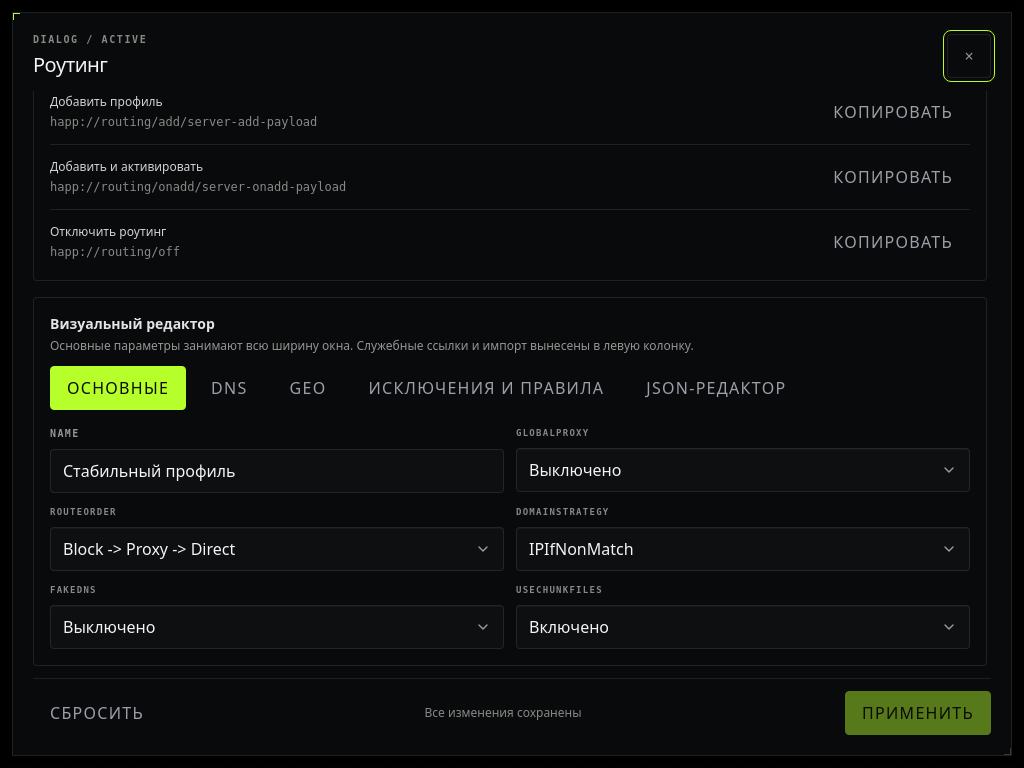
RoutingSettingsModal › shows every configured routing-list entry in a bounded editor
(page scrolled)
Expected: the field showing "Стабильный профиль" is shown, x1=50 y1=449 x2=504 y2=493
Click the button "Исключения и правила". click: (486, 388)
box: x1=352 y1=366 x2=621 y2=410
(page scrolled)
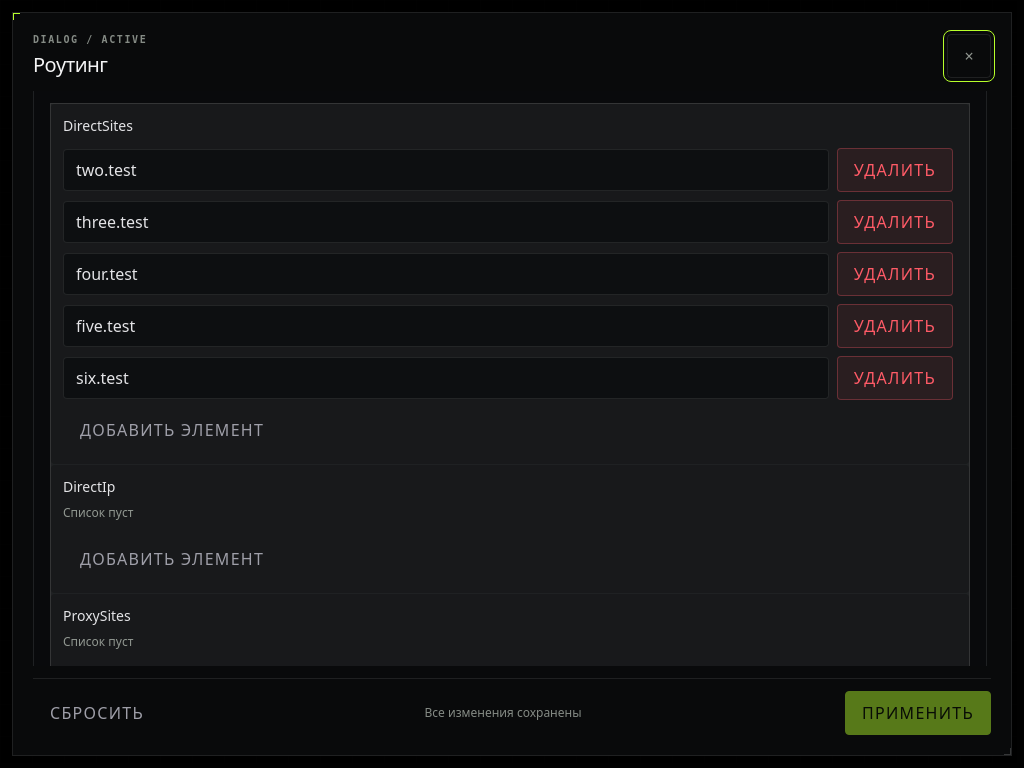
Expected: the field showing "five.test" is shown, x1=63 y1=305 x2=829 y2=347
Expected: the field showing "six.test" is shown, x1=63 y1=357 x2=829 y2=399
